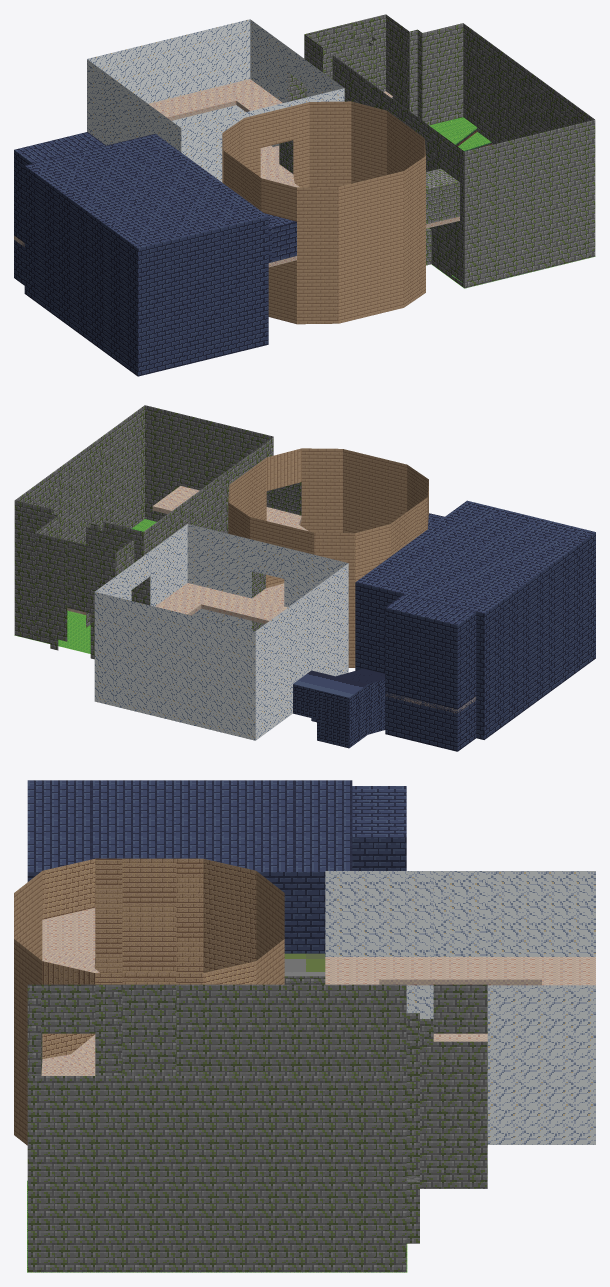
Rendered from noob-level-map.glb.
3 views of the same model, one above another, from view 1: azimuth 30°, elevation 25°; view 2: azimuth 150°, elevation 25°; view 3: azimuth 270°, elevation 25° (orthographic). The views are drawn at different scales.
Parts seen in each view (by area): view 1: Yard-Wall, Circle-Wall.002, Foundry-Wall, Gallery-Wall, Foundry-Roof, Gallery-Ramp, Circle-Coridors, Yard-hill-top, Circle-Ramp; view 2: Gallery-Wall, Yard-Wall, Foundry-Wall, Circle-Wall.002, Foundry-Roof, Foundry-Gallery-Strairs, Gallery-Ramp, Circle-Coridors, Yard-Floor, Circle-Ramp, Yard-Ramp; view 3: Yard-Wall, Gallery-Wall, Circle-Wall.002, Foundry-Roof, Gallery-Ramp, Foundry-Wall, Circle-Ramp, Foundry-Ramp, Circle-Coridors.
Boxes of the visible parts, x1,y1,x2,y2 form: Yard-Wall: (288,14,595,288); Circle-Wall.002: (222,101,425,324); Foundry-Wall: (14,150,268,376); Gallery-Wall: (87,19,344,182); Foundry-Roof: (14,132,268,248); Gallery-Ramp: (148,79,292,180); Circle-Coridors: (264,140,459,265); Yard-hill-top: (429,117,491,151); Circle-Ramp: (270,174,459,266); Gallery-Wall: (94,524,348,740); Yard-Wall: (14,405,273,659); Foundry-Wall: (355,532,595,751); Circle-Wall.002: (228,448,428,667); Foundry-Roof: (356,500,595,625); Foundry-Gallery-Strairs: (293,668,385,748); Gallery-Ramp: (155,583,287,623); Circle-Coridors: (252,482,444,630); Yard-Floor: (14,618,90,653); Circle-Ramp: (266,507,308,592); Yard-Ramp: (152,486,268,513); Yard-Wall: (27,984,487,1272); Gallery-Wall: (325,871,595,1144); Circle-Wall.002: (14,858,284,1145); Foundry-Roof: (27,780,406,871); Gallery-Ramp: (325,957,595,985); Foundry-Wall: (27,837,406,953); Circle-Ramp: (41,951,99,1075); Foundry-Ramp: (42,908,95,951); Circle-Coridors: (41,953,325,1075).
Size of the model in its own units: 56.05 by 18 by 43.
11 materials, 11 textured.
